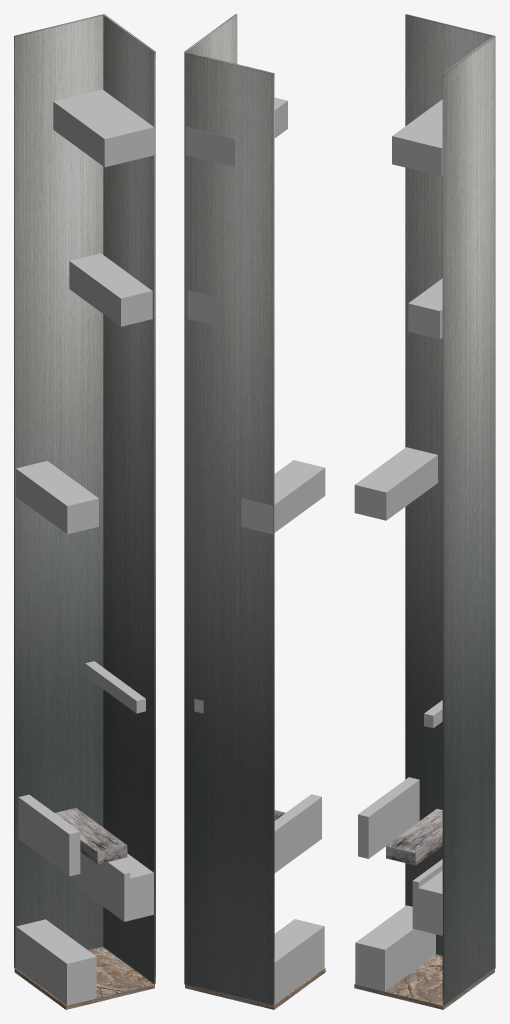
Rendered from stage.FBX.
3 renders of one model, left to right at view 1: azimuth 30°, elevation 25°; view 2: azimuth 150°, elevation 25°; view 3: azimuth 330°, elevation 25°, orthographic.
Parts seen in each view (by area): view 1: Box003, Box002, Box012, Box004, Box011, Box010, Box005, Box008, Box001, Box007, Box009; view 2: Box003, Box010, Box004, Box008, Box002, Box012, Box011, Box001; view 3: Box002, Box003, Box004, Box010, Box008, Box012, Box001, Box007, Box005, Box011, Box009, Box006.
Boxes of the visible parts, bbox=[...] form: Box003: bbox=[14, 14, 103, 968]; Box002: bbox=[103, 14, 155, 984]; Box012: bbox=[53, 89, 154, 167]; Box004: bbox=[16, 919, 96, 1005]; Box011: bbox=[69, 253, 152, 326]; Box010: bbox=[16, 461, 98, 534]; Box005: bbox=[73, 852, 153, 921]; Box008: bbox=[18, 794, 80, 876]; Box001: bbox=[14, 947, 154, 1009]; Box007: bbox=[55, 808, 127, 864]; Box009: bbox=[85, 661, 145, 713]; Box003: bbox=[184, 51, 274, 1006]; Box010: bbox=[241, 460, 325, 534]; Box004: bbox=[274, 919, 324, 1004]; Box008: bbox=[274, 794, 321, 872]; Box002: bbox=[184, 14, 237, 983]; Box012: bbox=[186, 97, 287, 167]; Box011: bbox=[187, 291, 219, 326]; Box001: bbox=[185, 968, 325, 1009]; Box002: bbox=[442, 36, 495, 1005]; Box003: bbox=[405, 14, 494, 955]; Box004: bbox=[355, 905, 435, 991]; Box010: bbox=[354, 447, 437, 520]; Box008: bbox=[358, 777, 419, 858]; Box012: bbox=[392, 99, 442, 176]; Box001: bbox=[354, 954, 494, 1009]; Box007: bbox=[386, 809, 442, 865]; Box005: bbox=[412, 871, 442, 935]; Box011: bbox=[408, 278, 442, 339]; Box009: bbox=[424, 700, 442, 728]; Box006: bbox=[412, 859, 442, 887].
Size of the model in its own units: 1210 by 1223 by 12050.
